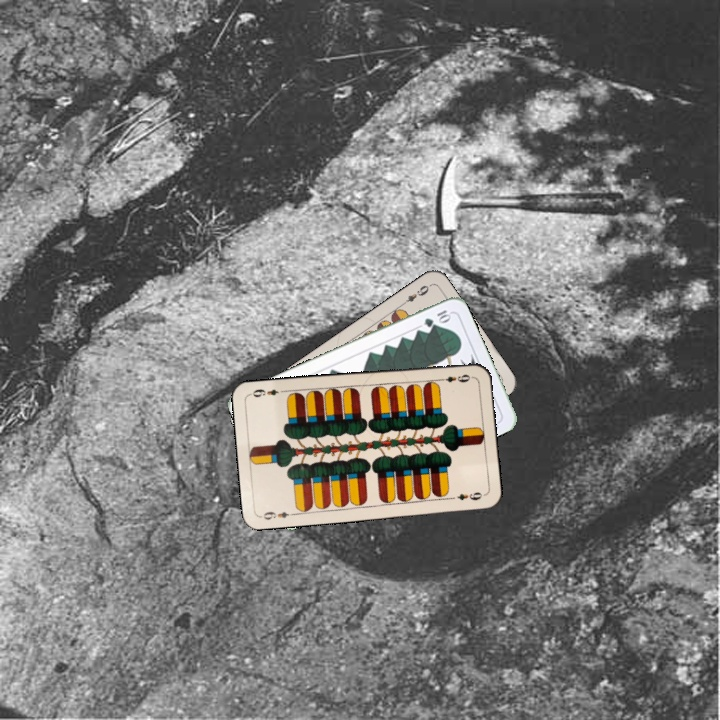E9: (397, 281, 433, 308), (257, 508, 298, 523), (435, 370, 475, 385)
G10: (420, 306, 453, 330)
